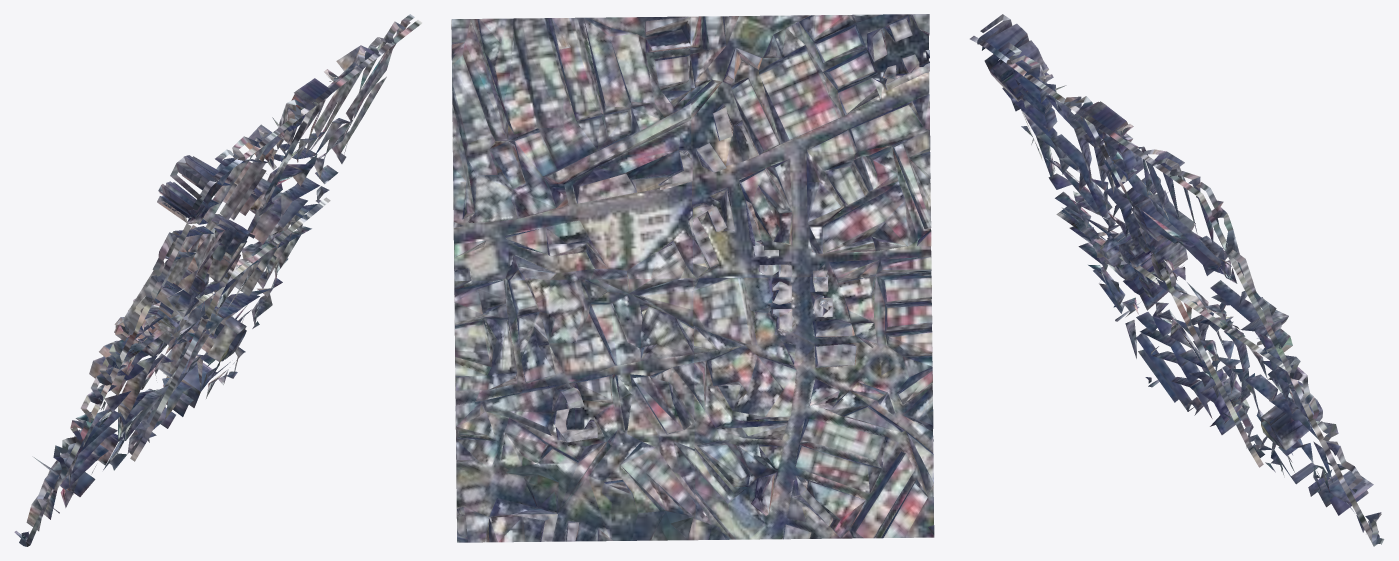
3 views of the same model, side by side, from view 1: azimuth 30°, elevation 25°; view 2: azimuth 150°, elevation 25°; view 3: azimuth 270°, elevation 25° (orthographic). The views are drawn at different scales.
Bounding box in the file's own units: 618 × 578 × 524.
1 material, 1 textured.
